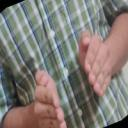hand: (78, 30, 113, 96), (32, 68, 68, 128)
